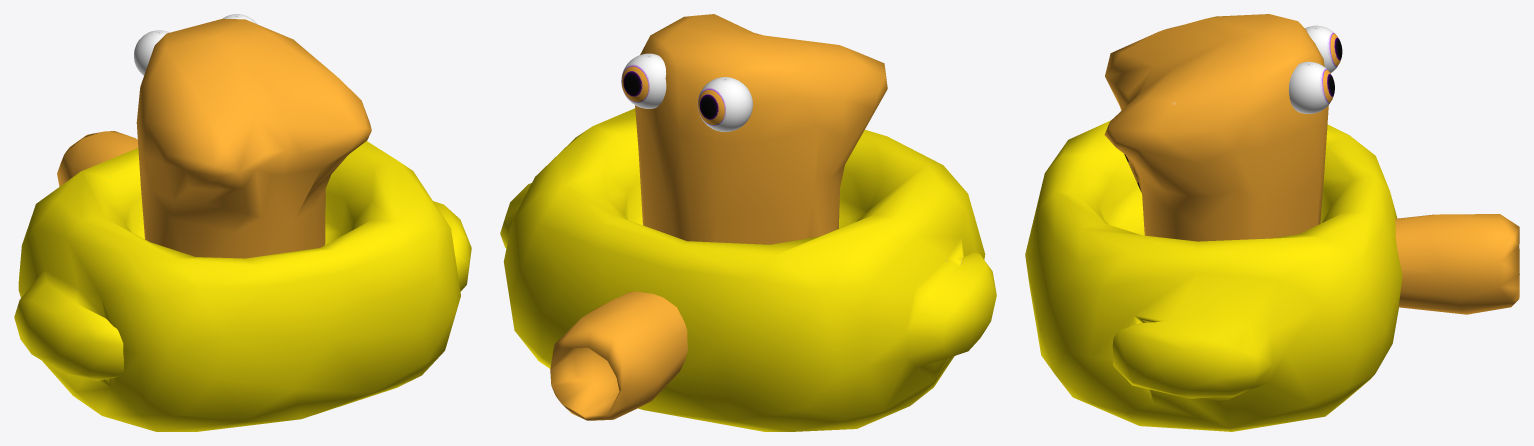
The model's file is player.obj.
3 views of the same model, side by side, from view 1: azimuth 30°, elevation 25°; view 2: azimuth 150°, elevation 25°; view 3: azimuth 270°, elevation 25° (orthographic). The views are drawn at different scales.
Parts seen in each view (by area): view 1: Cube.002, Cube, Cube.001, Sphere.001_Sphere.002; view 2: Cube.002, Cube, Cube.001, Sphere.001_Sphere.002, Sphere_Sphere.001; view 3: Cube.002, Cube, Cube.001, Sphere_Sphere.001, Sphere.001_Sphere.002.
Part boxes in pixels (box(x1,y1,x2,y2)): Cube.002: box(14, 141, 471, 431); Cube: box(136, 18, 371, 258); Cube.001: box(57, 131, 138, 186); Sphere.001_Sphere.002: box(134, 30, 169, 75); Cube.002: box(500, 108, 996, 431); Cube: box(635, 14, 887, 244); Cube.001: box(550, 291, 687, 420); Sphere.001_Sphere.002: box(697, 77, 752, 131); Sphere_Sphere.001: box(621, 53, 666, 108); Cube.002: box(1025, 120, 1402, 431); Cube: box(1104, 14, 1328, 241); Cube.001: box(1395, 214, 1519, 314); Sphere_Sphere.001: box(1289, 61, 1334, 113); Sphere.001_Sphere.002: box(1305, 25, 1342, 73).
Size of the model in its own units: 2.5 by 1.98 by 2.47.
